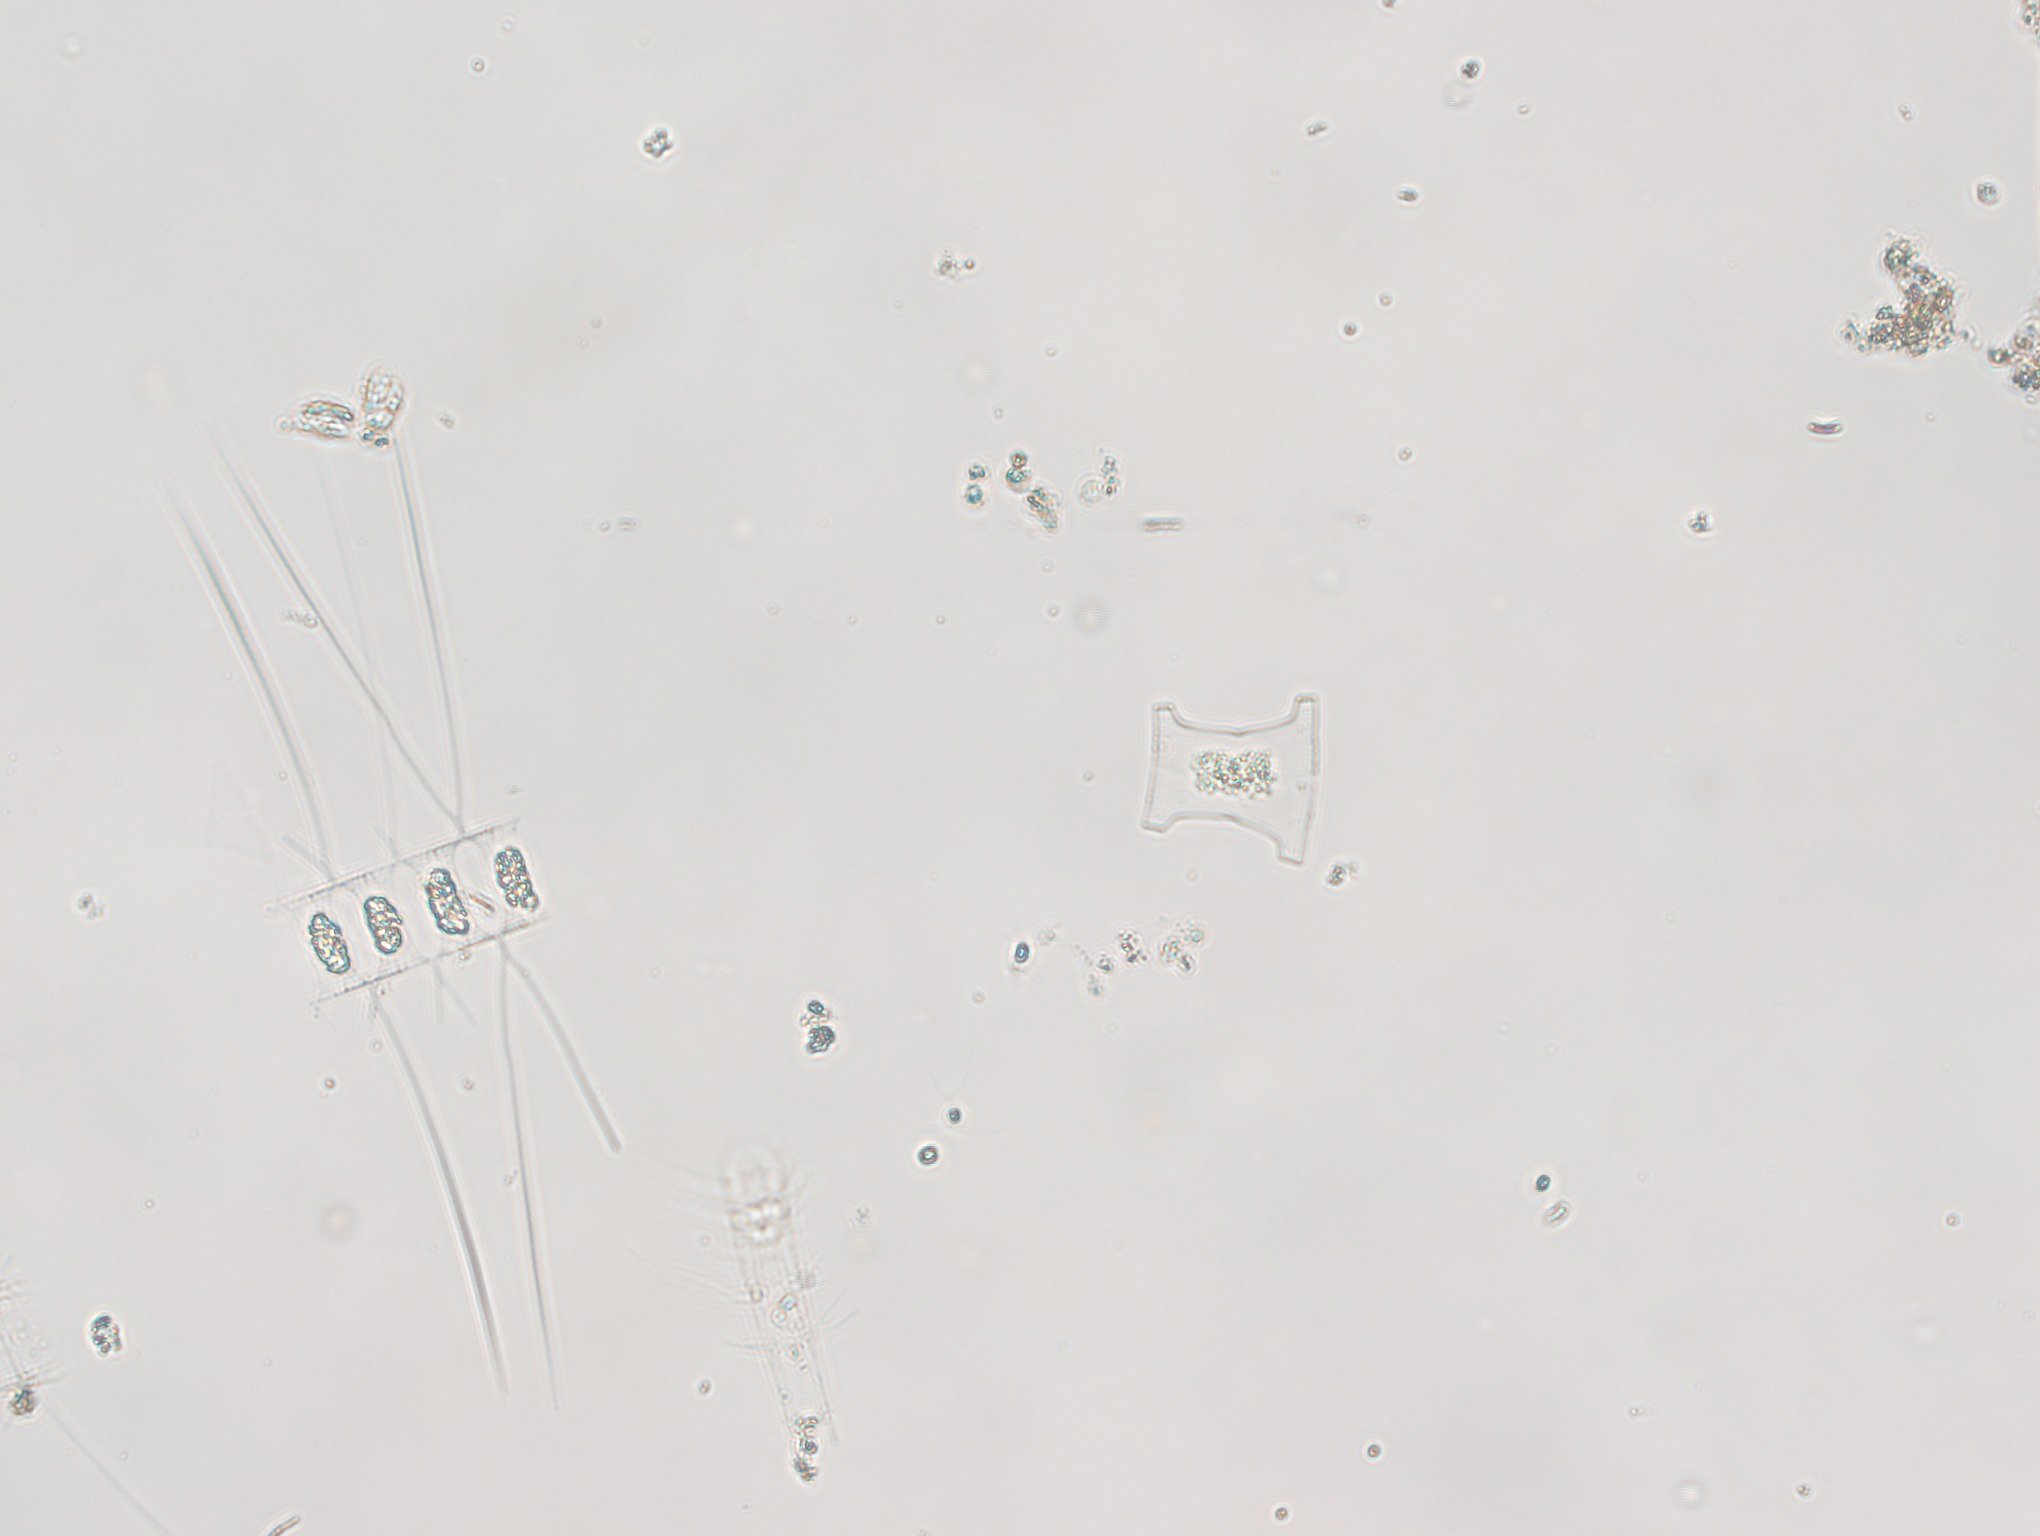chaetoceros: (131, 428, 655, 1413)
